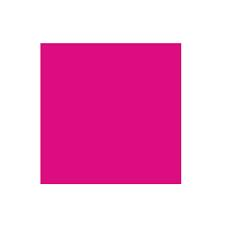pink_zone: (37, 39, 184, 186)
